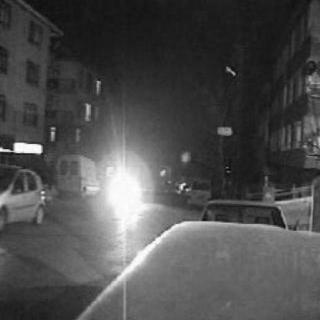other: (105, 163, 147, 225)
